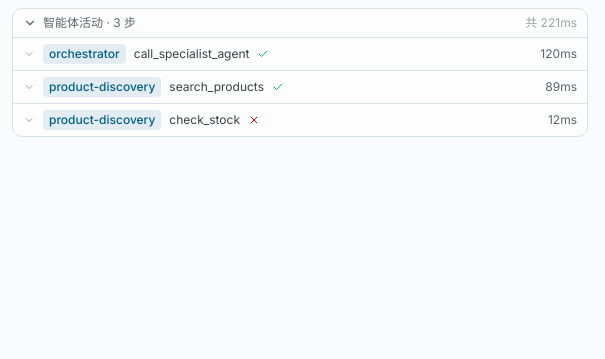
Test: AgentTimeline › 展开步骤行可看到 tool_input 与 tool_output
// 点击 search_products 这一行以展开
Click the button "product-discovery search_products 89ms".
click(102, 87)  # box [13, 71, 587, 103]
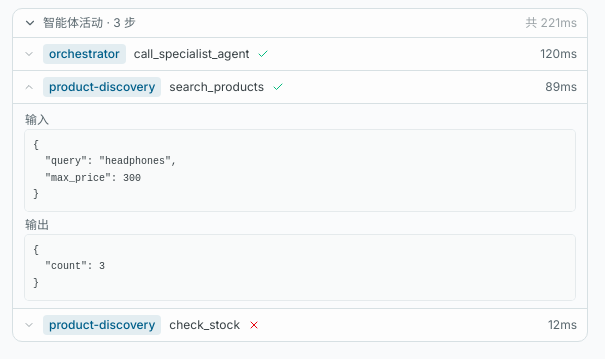
Check: the text "输入" is shown, box [25, 112, 49, 127]
Check: the text "输出" is shown, box [25, 217, 49, 232]
Check: the text "{ \"query\": \"headphones\", \"max_price\": 300 }" is shown, box [25, 130, 575, 211]
